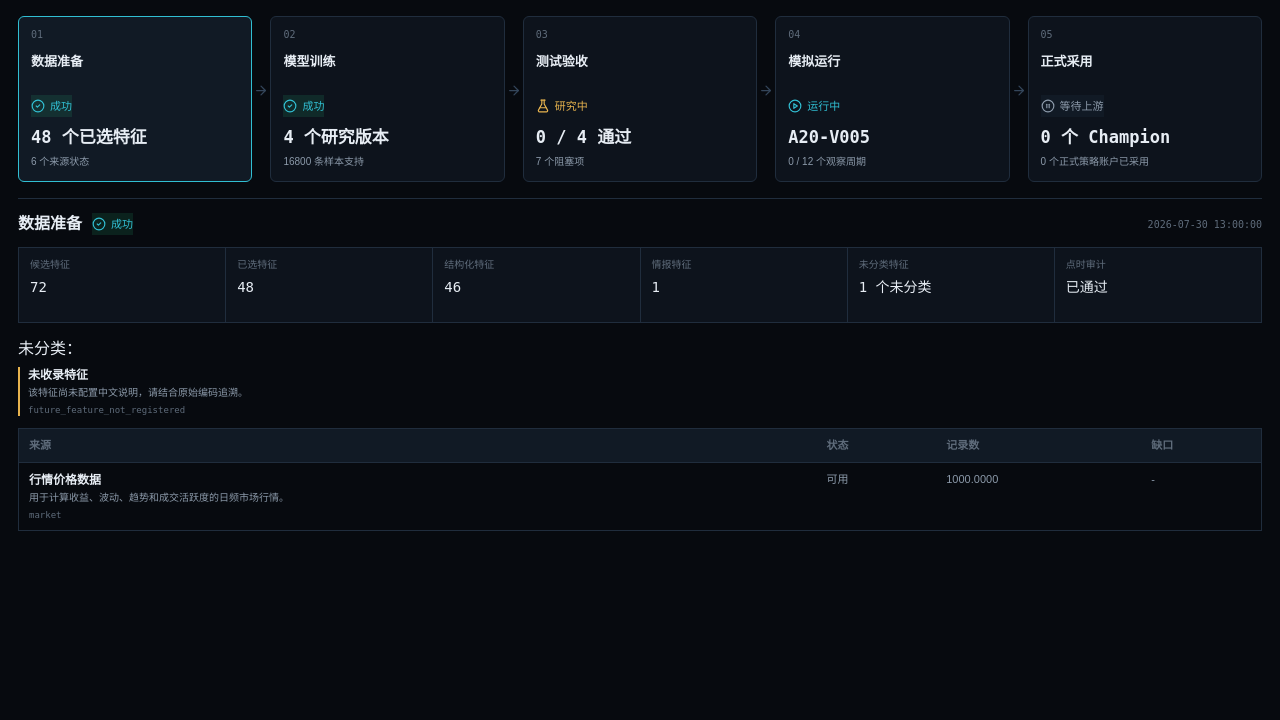
Test: ModelResearchPage › shows the best tabular candidate without implying formal adoption
Expected: the text "0 / 4 通过" is shown, left=536, top=127, right=631, bottom=147
Click the button "03 测试验收 研究中 0 / 4 通过 7 个阻塞项" at (640, 99), box left=523, top=16, right=757, bottom=182
(page scrolled)
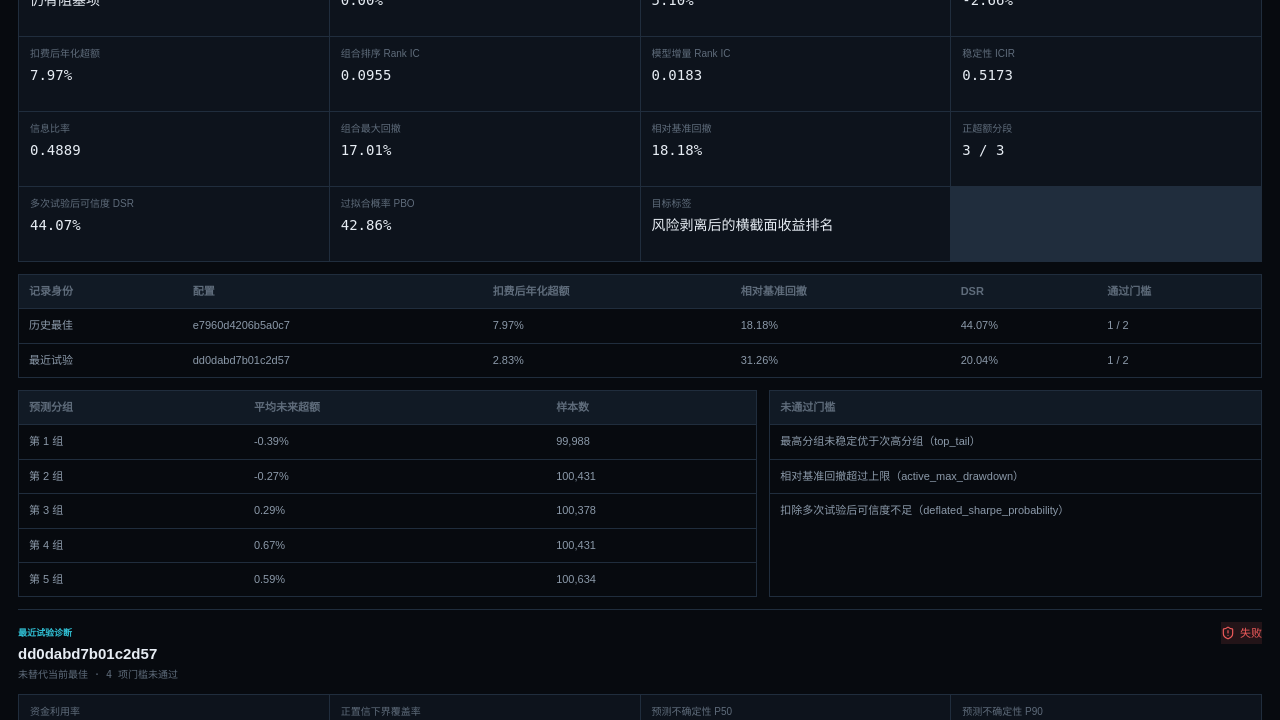
Expected: the text "7.97%" is shown 2 times, left=30, top=67, right=72, bottom=83; left=483, top=309, right=731, bottom=343
Expected: the text "0.00%" is shown 2 times
Expected: the text "最高分组未稳定优于次高分组（top_tail）" is shown, left=770, top=425, right=1261, bottom=459
